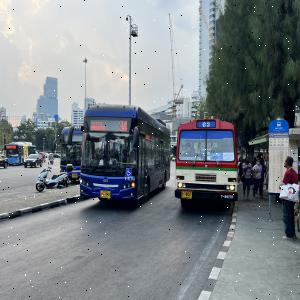BMTA-bus: (174, 118, 239, 210), (4, 142, 36, 166)
Bus Line Number: (116, 119, 130, 133), (201, 120, 211, 128), (13, 146, 16, 149)
Bus Side Number: (220, 193, 234, 200), (124, 176, 136, 182), (13, 161, 15, 163)
Destination Sign: (89, 119, 108, 132), (209, 152, 223, 162), (11, 155, 16, 156)
TSB-Bus: (79, 105, 171, 205), (60, 125, 84, 181)
